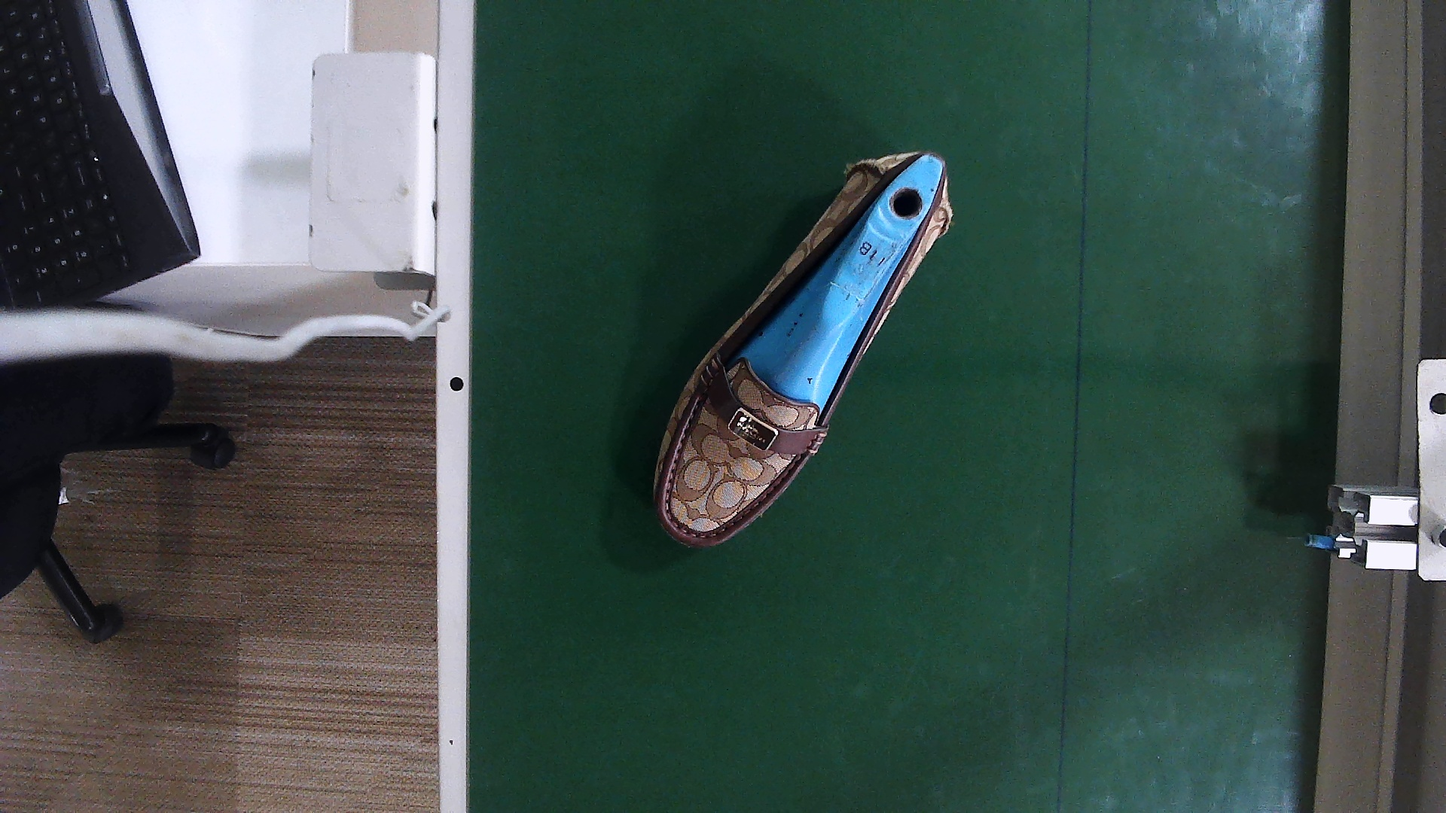shoe: (658, 154, 950, 547)
